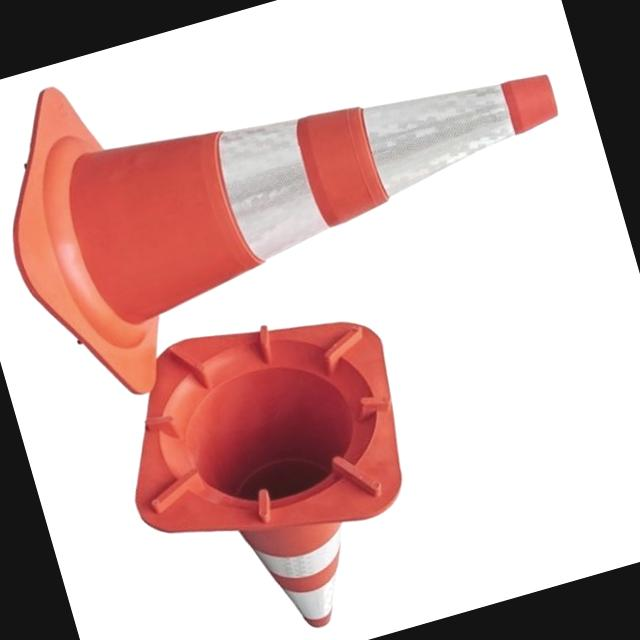cone: (18, 0, 567, 382), (156, 312, 465, 640)
